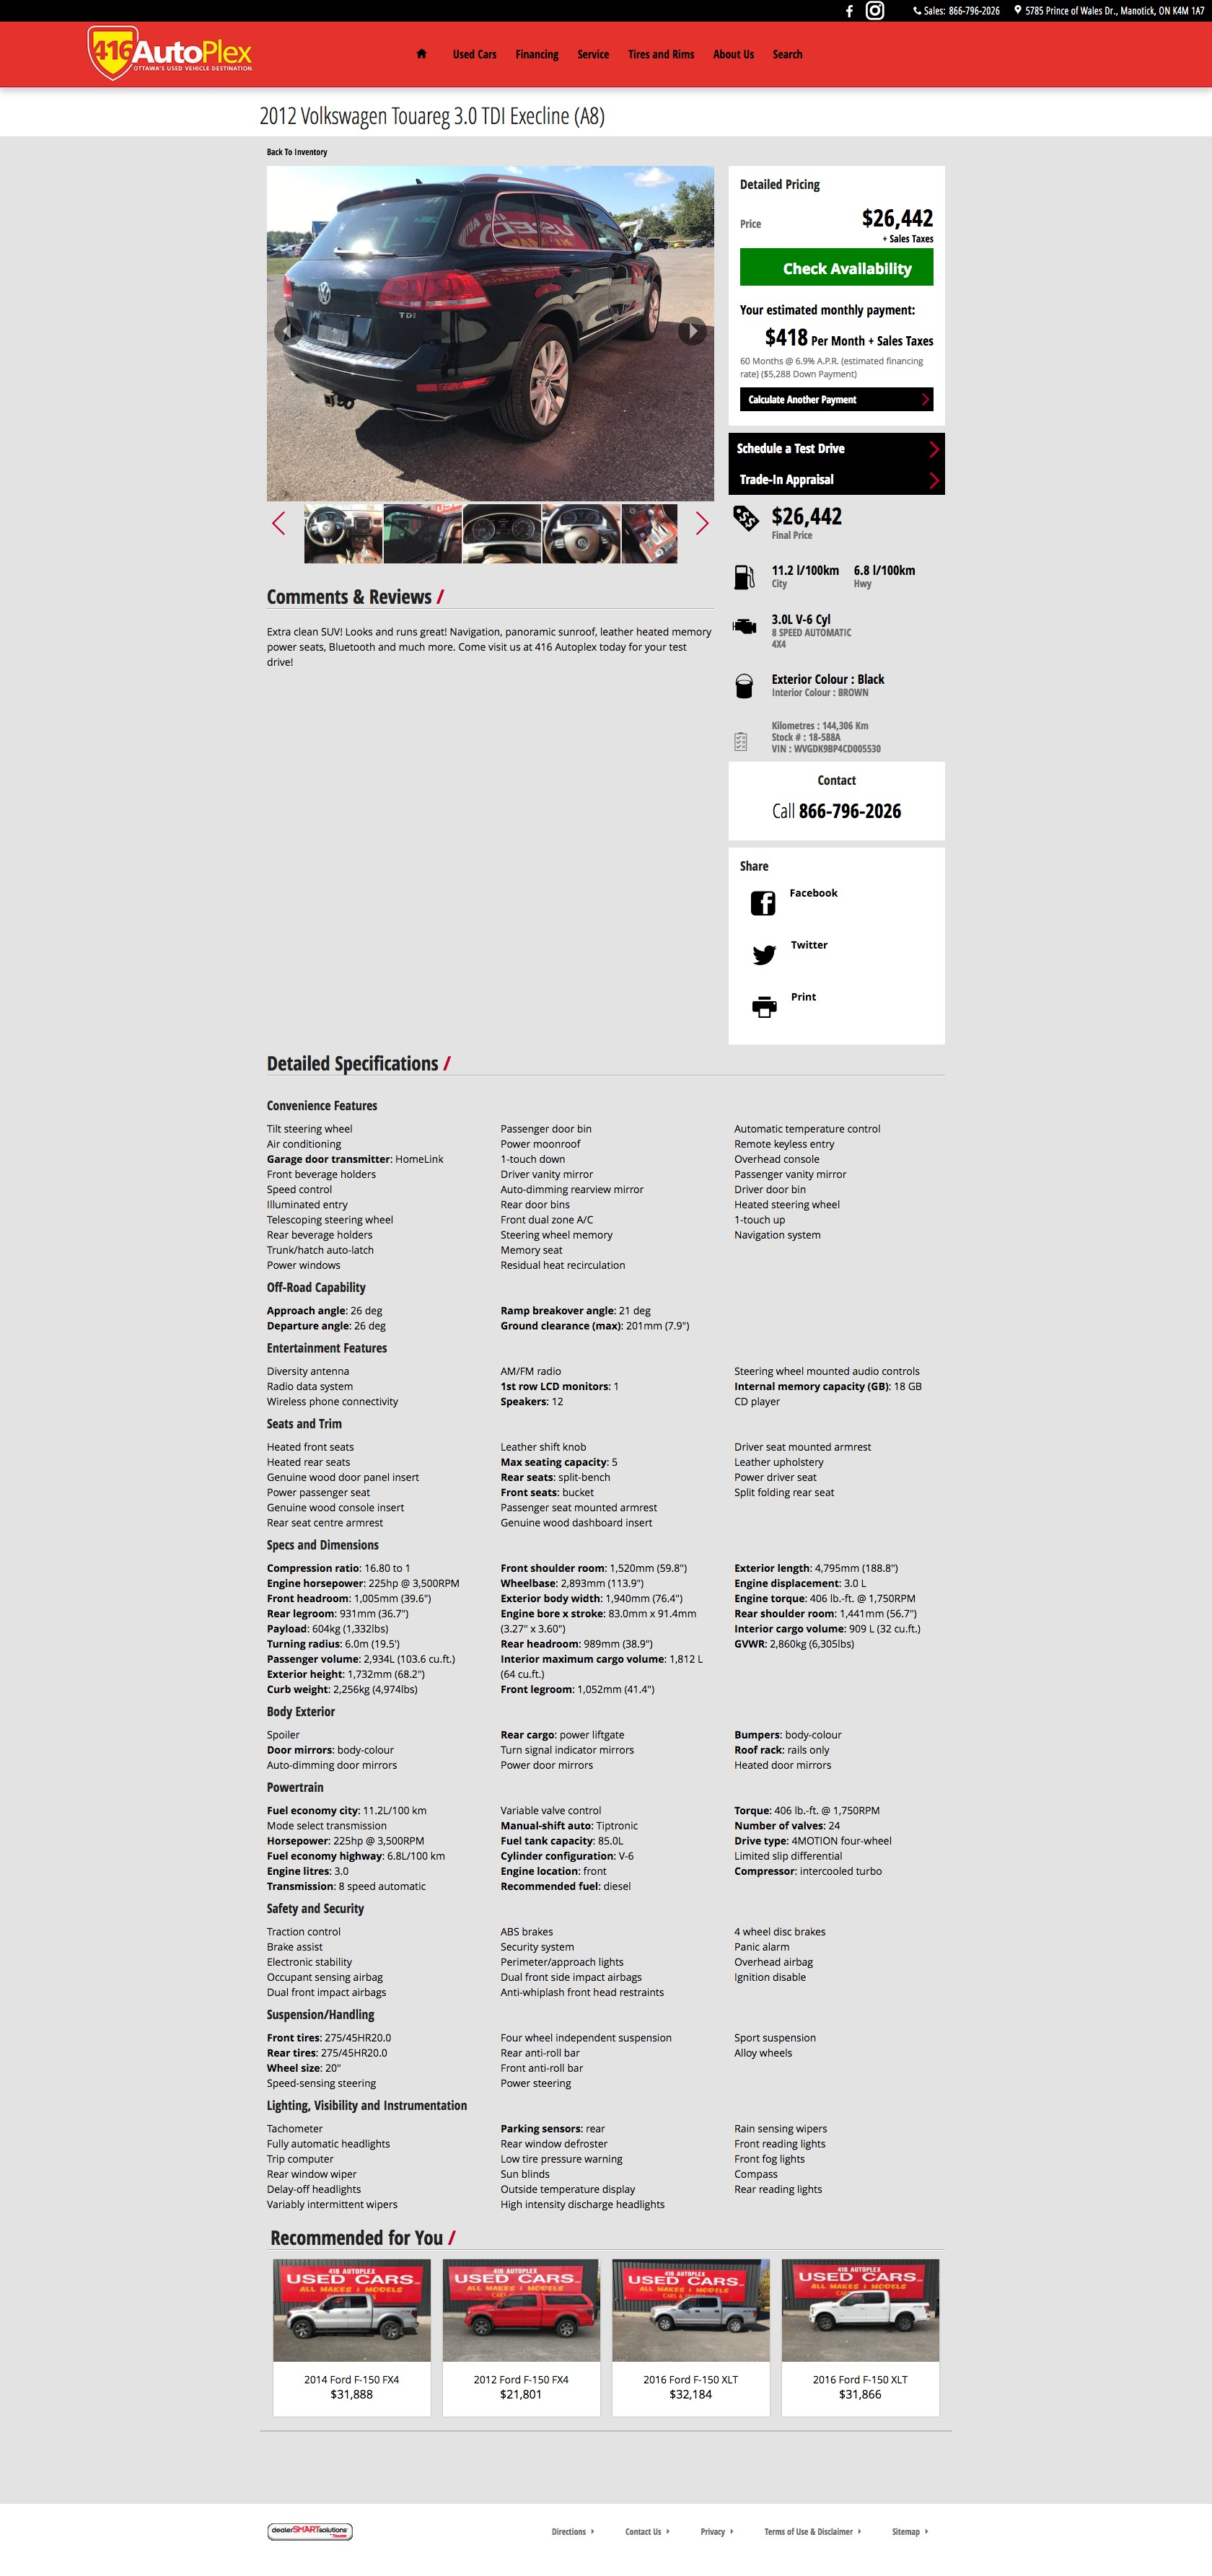arrow: (690, 509, 713, 539)
